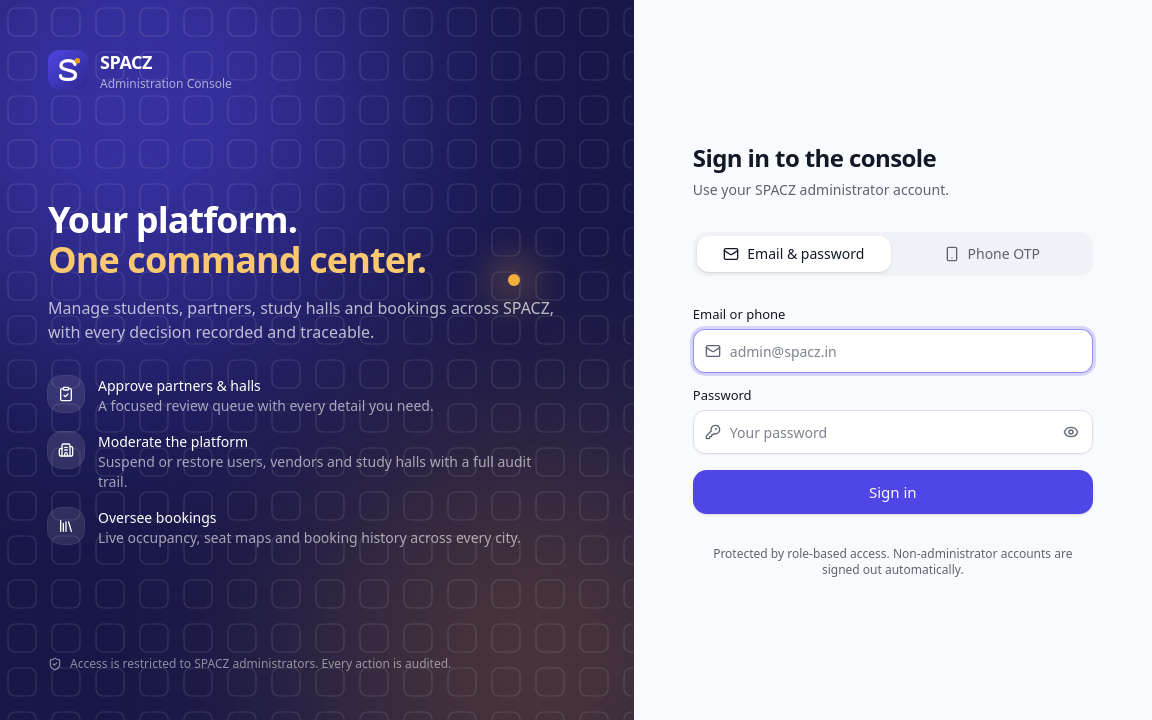
Test case: Login › rejects a non-admin account and revokes its session
Type "ravi@example.com" into the field labelled "Email or phone" at point(893, 351), box [693, 329, 1093, 373]
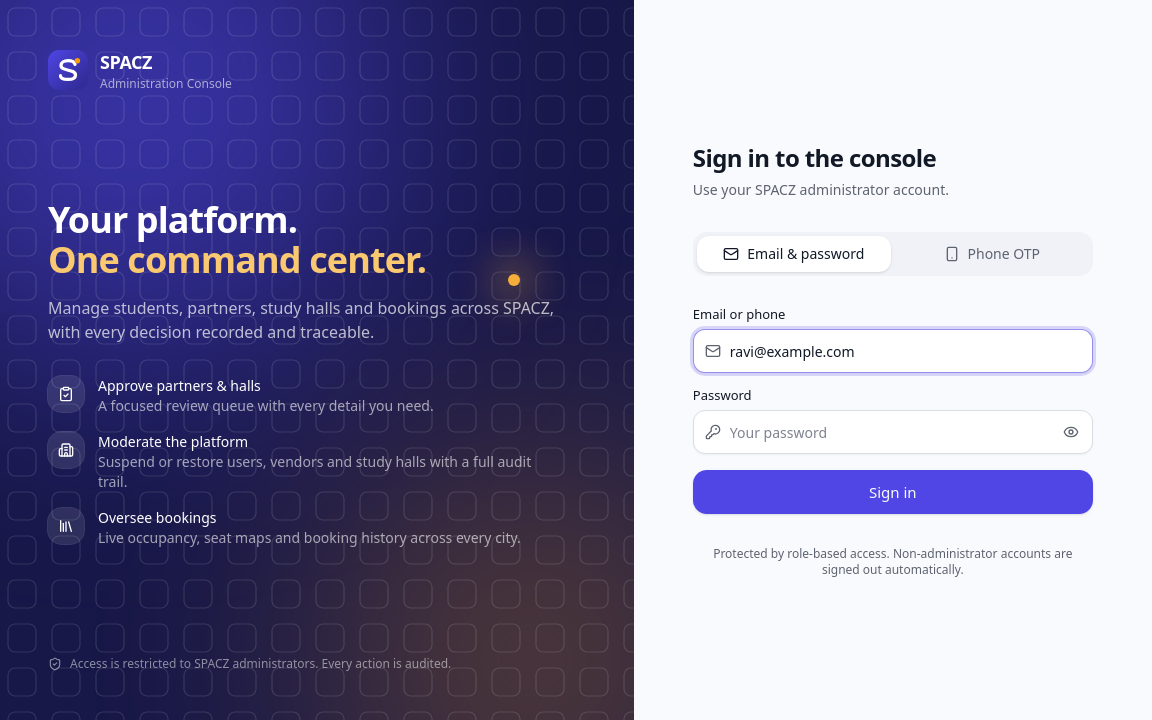
Type "secret123" into the password field labelled "Password" at point(893, 432), box [693, 410, 1093, 454]
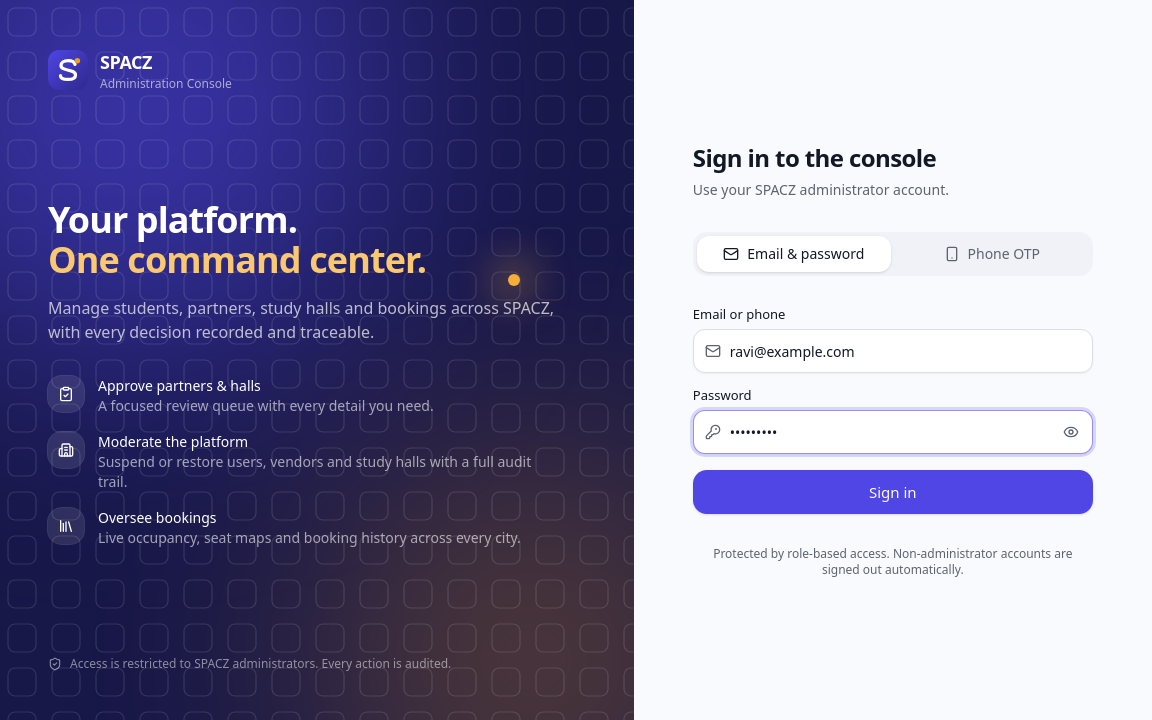
Click the button "Sign in" at point(893, 492), box [693, 470, 1093, 514]
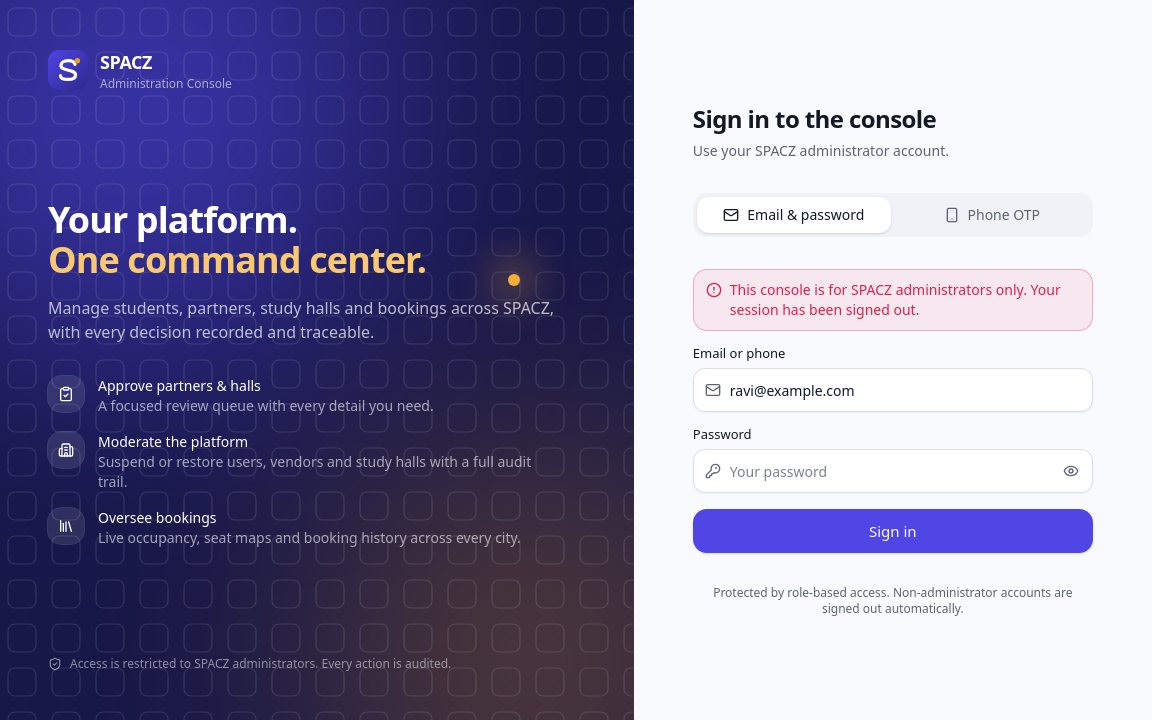
expect the message shows "administrators only": met, box [730, 280, 1061, 319]
